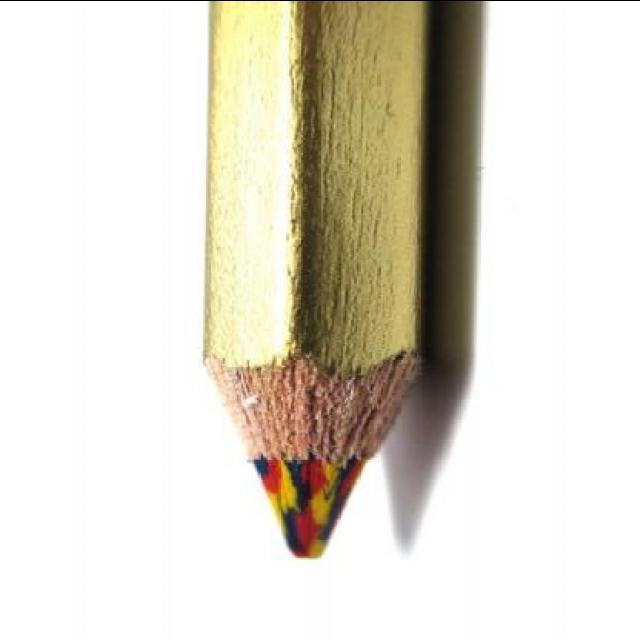pencil: (157, 297, 457, 574)
